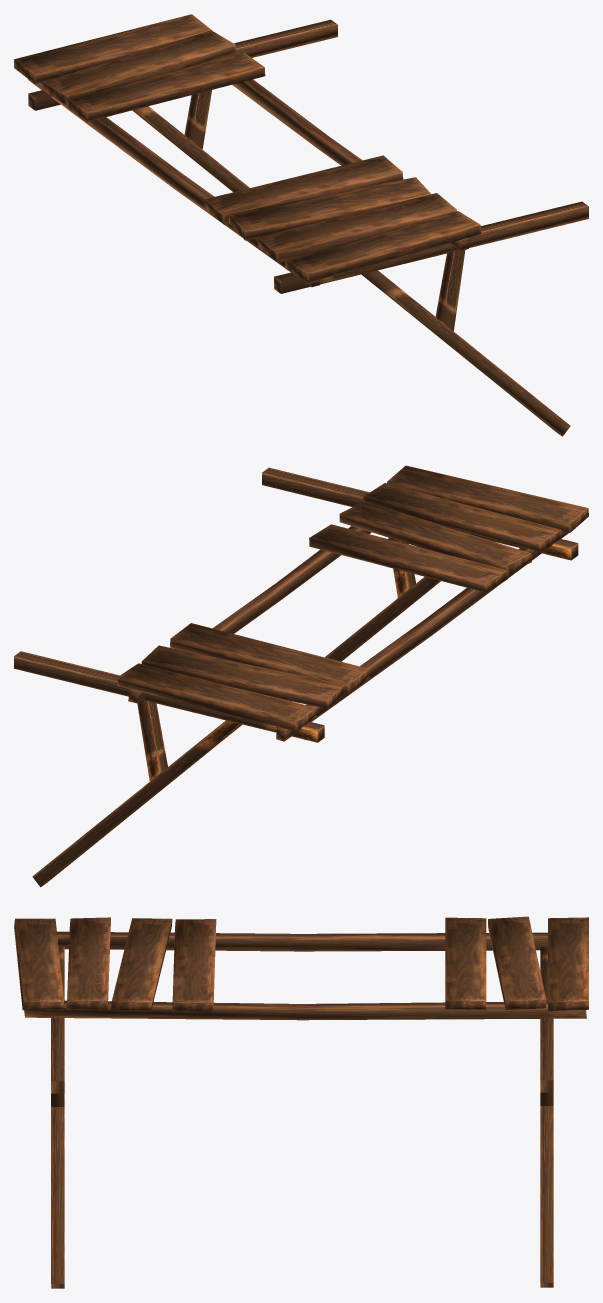
The model's file is INST_SWORDLIGHT_WALLPLAT-BREAK.obj.
The picture shows the model from 3 angles, top to bottom: view 1: azimuth 30°, elevation 25°; view 2: azimuth 150°, elevation 25°; view 3: azimuth 270°, elevation 25°; orthographic projection. The views are drawn at different scales.
Visible parts, largest first — view 1: t-Break_Lod1_01; view 2: t-Break_Lod1_01; view 3: t-Break_Lod1_01.
Boxes of the visible parts, x1,y1,x2,y2 form: t-Break_Lod1_01: (14, 14, 588, 436); t-Break_Lod1_01: (14, 465, 588, 887); t-Break_Lod1_01: (14, 916, 588, 1288).
Size of the model in its own units: 311 by 238 by 513.
